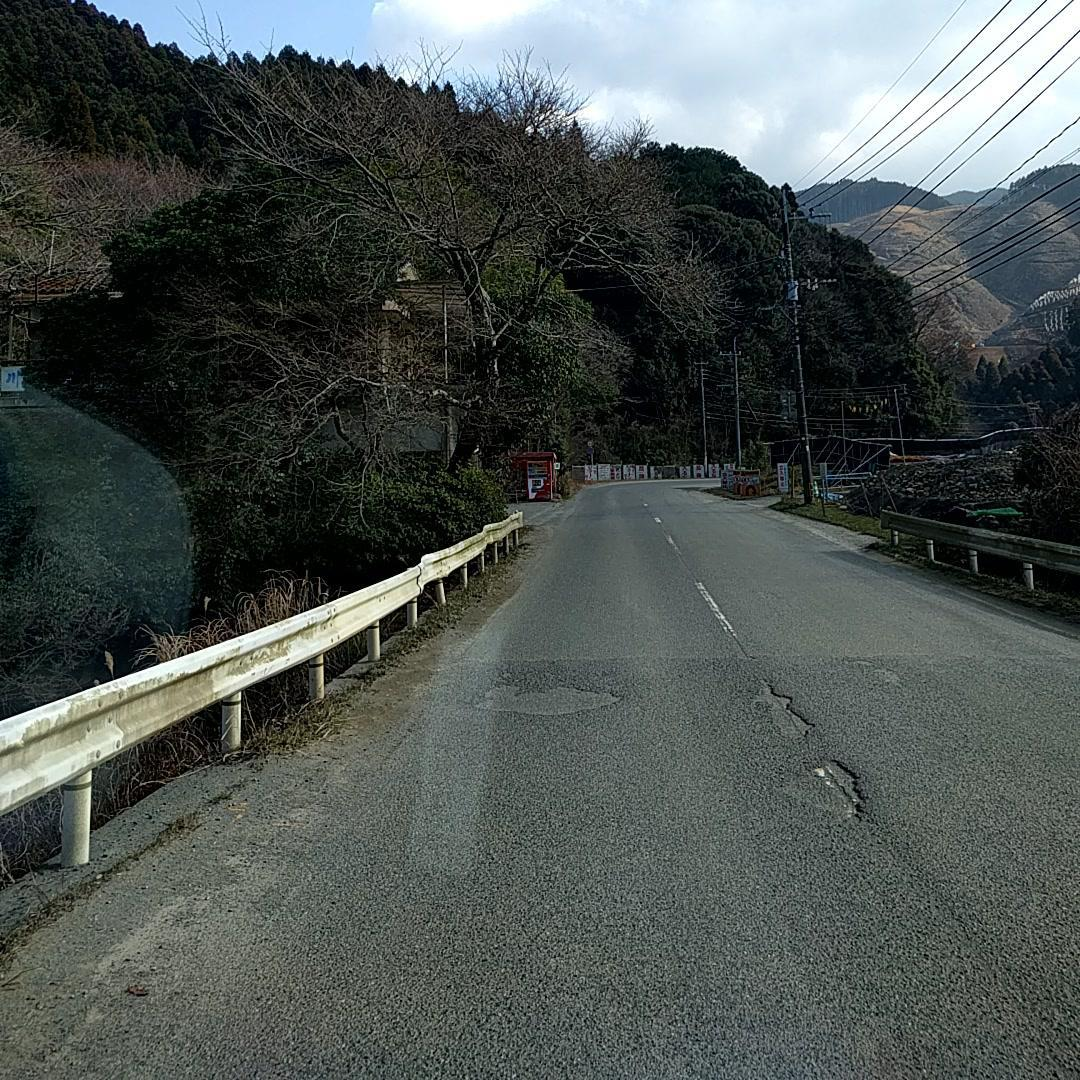D40: (470, 670, 631, 721), (778, 750, 874, 834), (745, 674, 818, 743)
